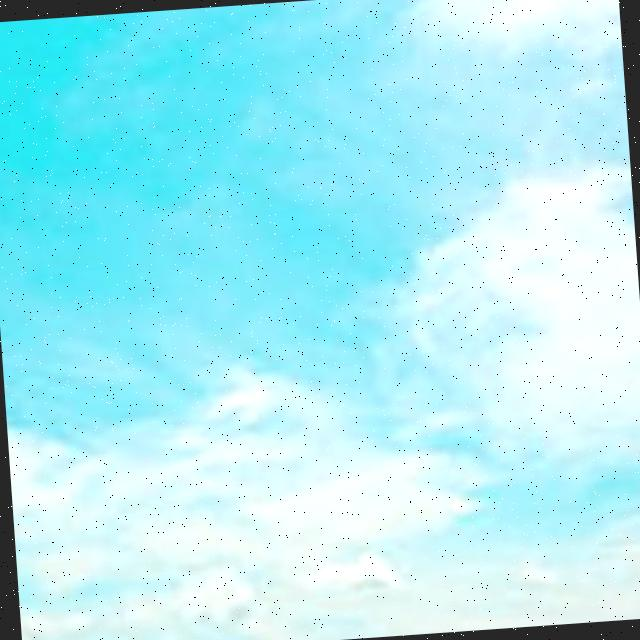As: (1, 161, 640, 640)
